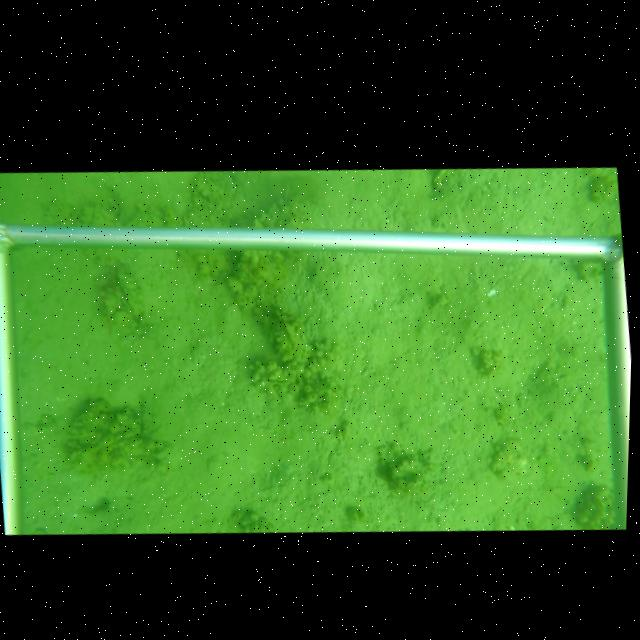Oyster-Closed: (113, 262, 143, 323), (280, 320, 296, 337)
